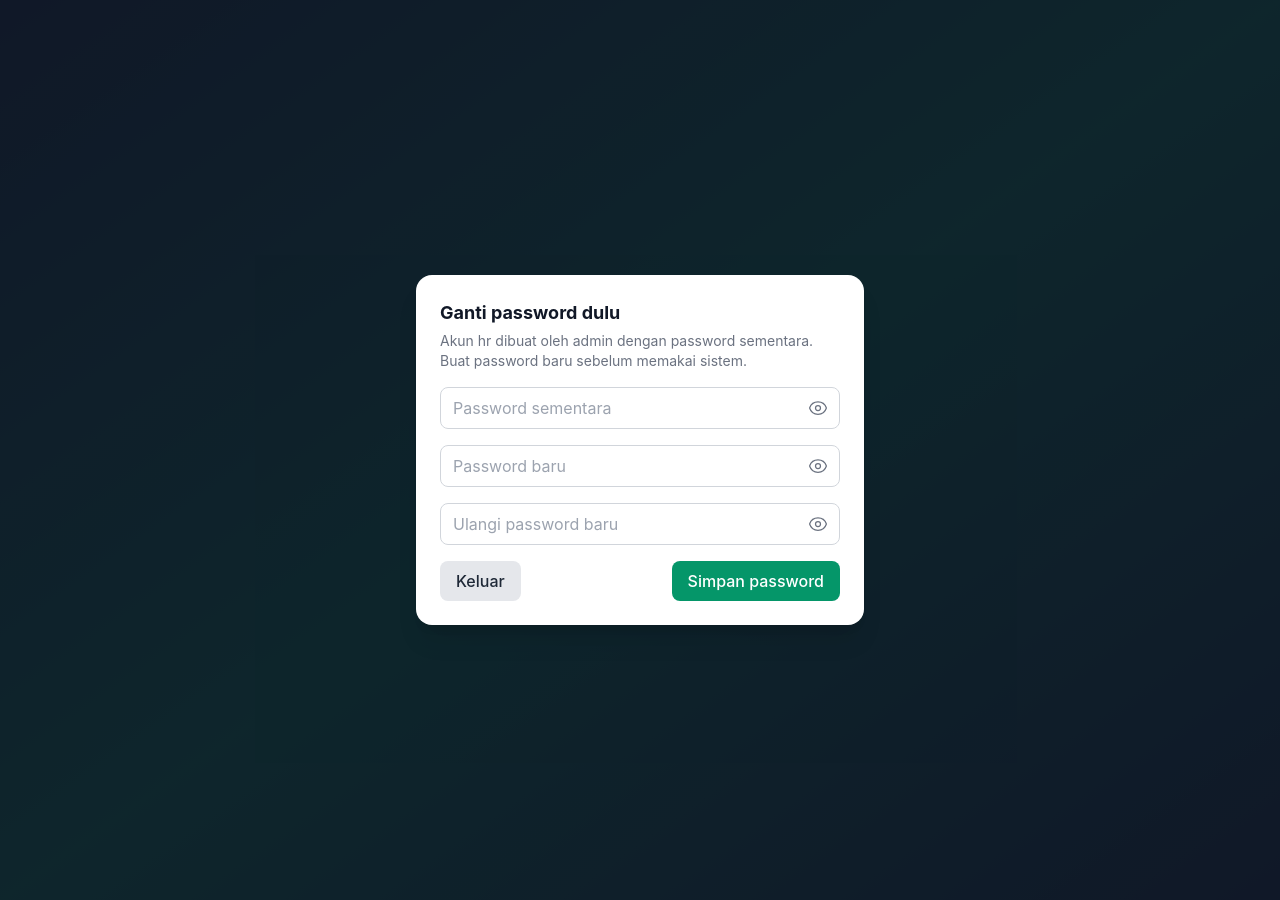
Test: ForcePasswordChange › shows live rule checklist and mismatch hint
Type "abc" into the password field with placeholder "Password baru" at (640, 466), box [440, 445, 840, 487]
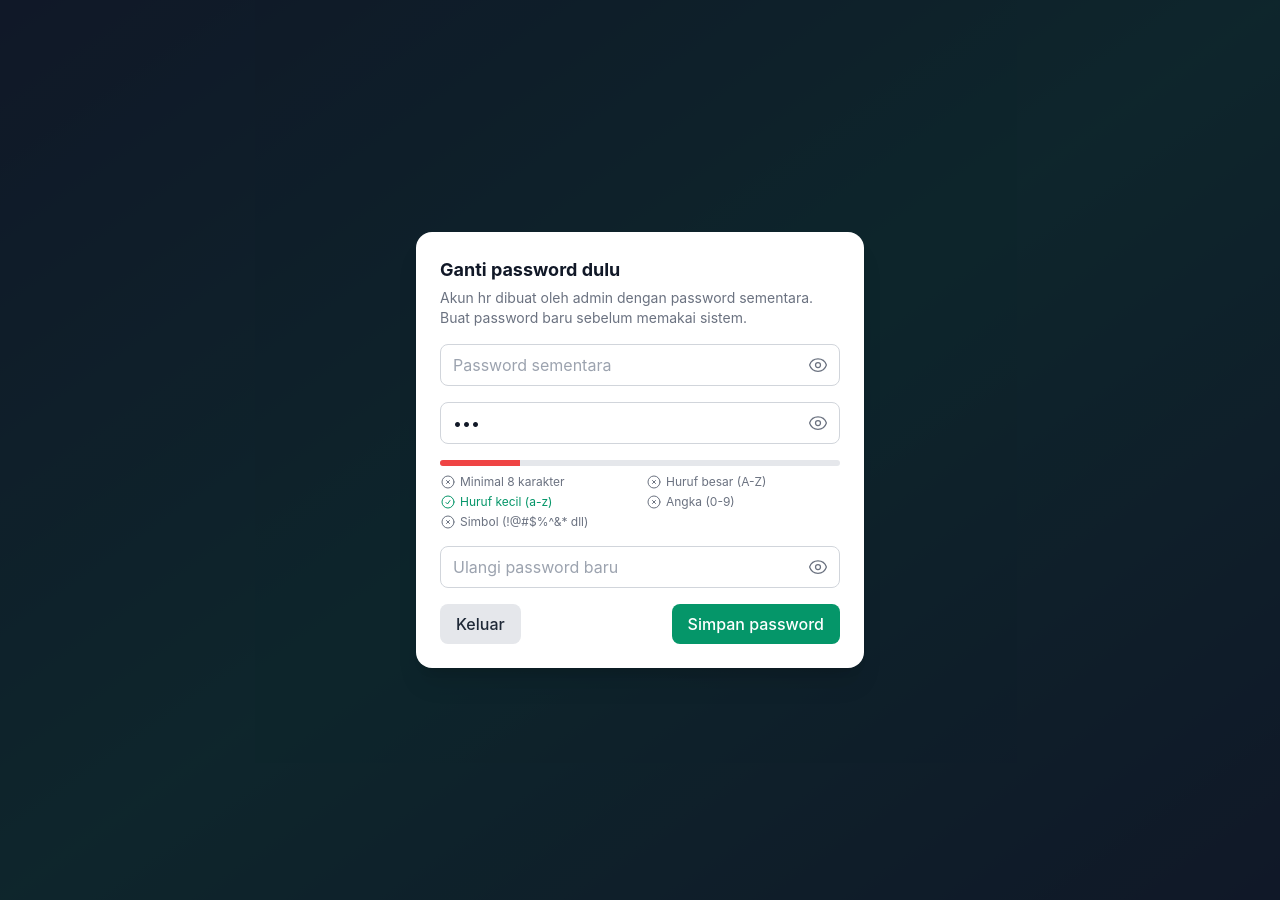
Expected: the list item "Huruf besar (A-Z)" is shown, [646, 474, 766, 490]
Type "abd" into the password field with placeholder "Ulangi password baru" at (640, 567), box [440, 546, 840, 588]
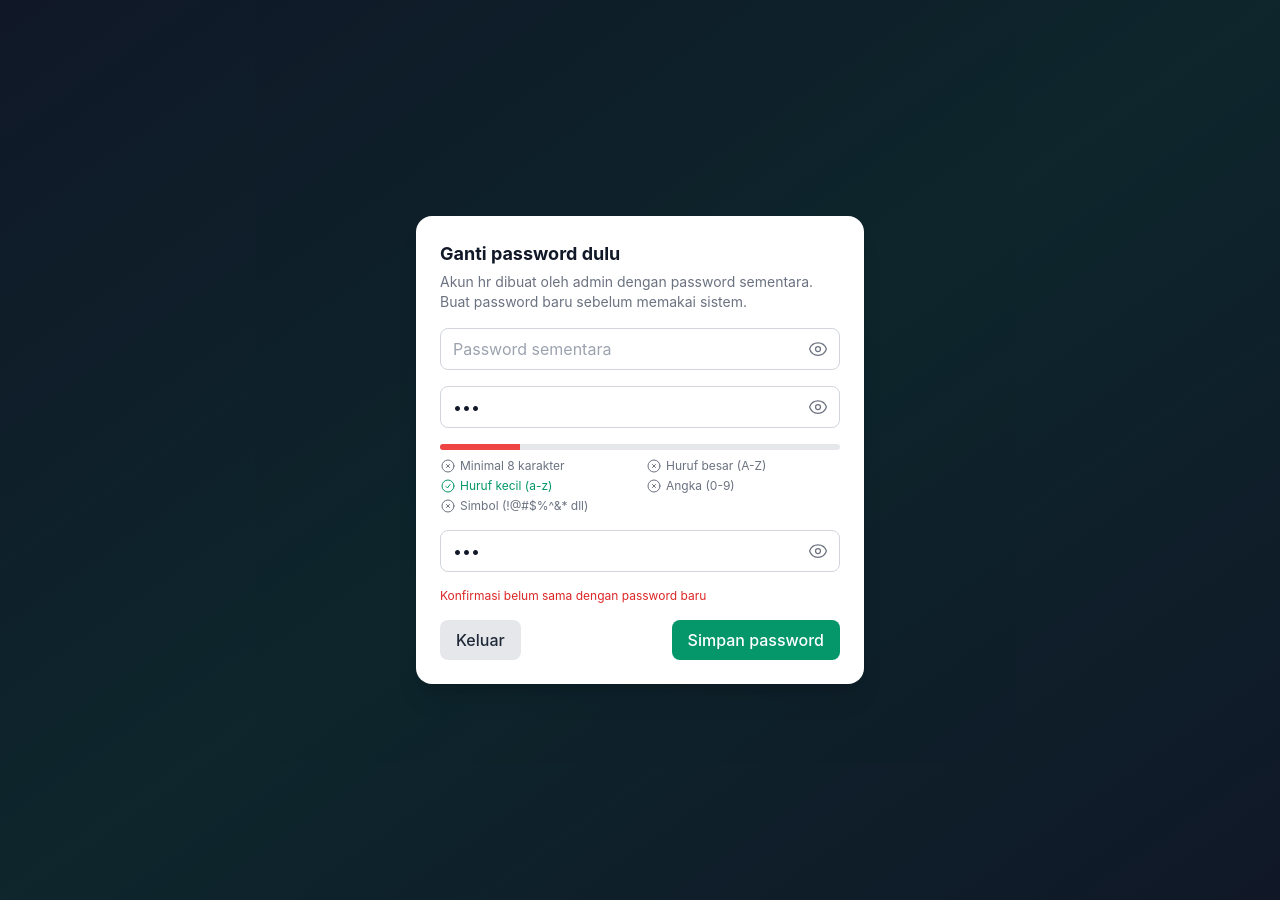
Expected: the text "Konfirmasi belum sama dengan password baru" is shown, [440, 588, 706, 603]
